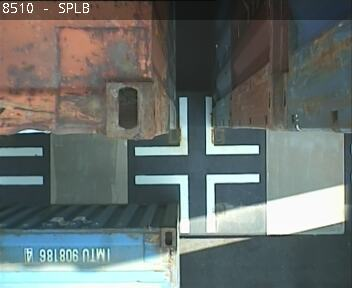groundmarker_1: (134, 172, 261, 232), (134, 97, 260, 157)
